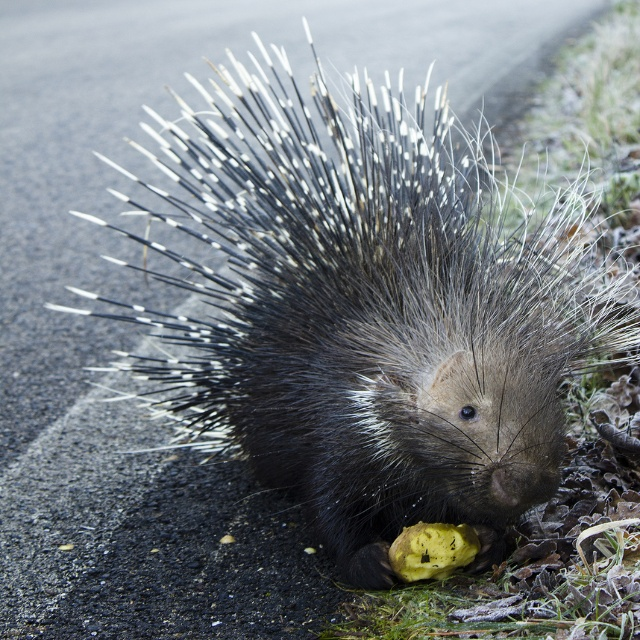Hedgehog: (44, 15, 640, 591)
